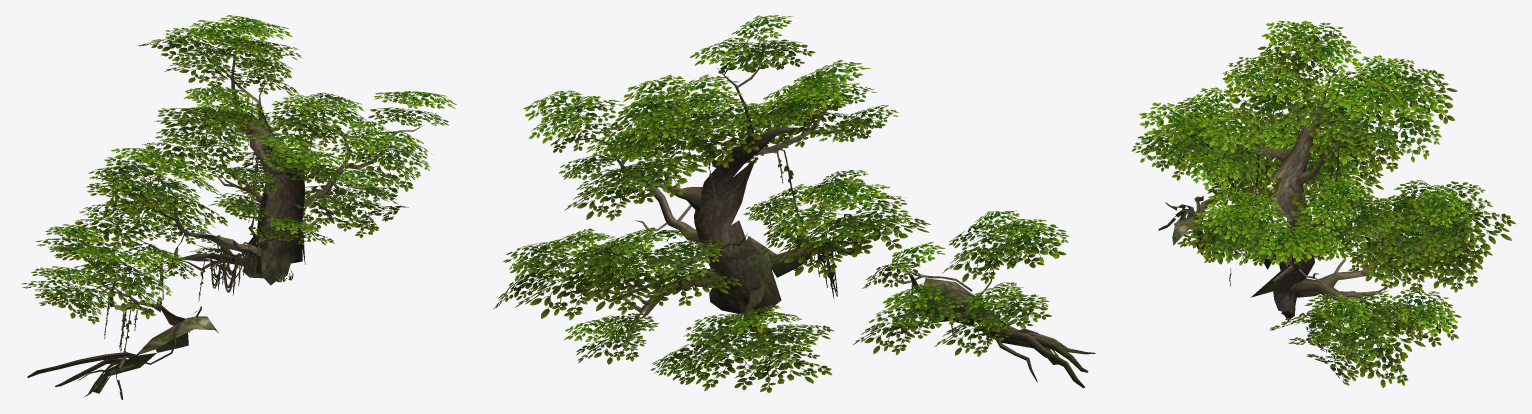
File: S_Tree_Green133_H4.FBX
3 views of the same model, side by side, from view 1: azimuth 30°, elevation 25°; view 2: azimuth 150°, elevation 25°; view 3: azimuth 270°, elevation 25° (orthographic). The views are drawn at different scales.
Parts seen in each view (by area): view 1: S_Tree_Green133_H4; view 2: S_Tree_Green133_H4; view 3: S_Tree_Green133_H4.
Boxes of the visible parts, x1,y1,x2,y2 form: S_Tree_Green133_H4: (21,15,456,399); S_Tree_Green133_H4: (493,15,1095,392); S_Tree_Green133_H4: (1131,20,1516,387).
Size of the model in its own units: 1590 by 945 by 1110.
